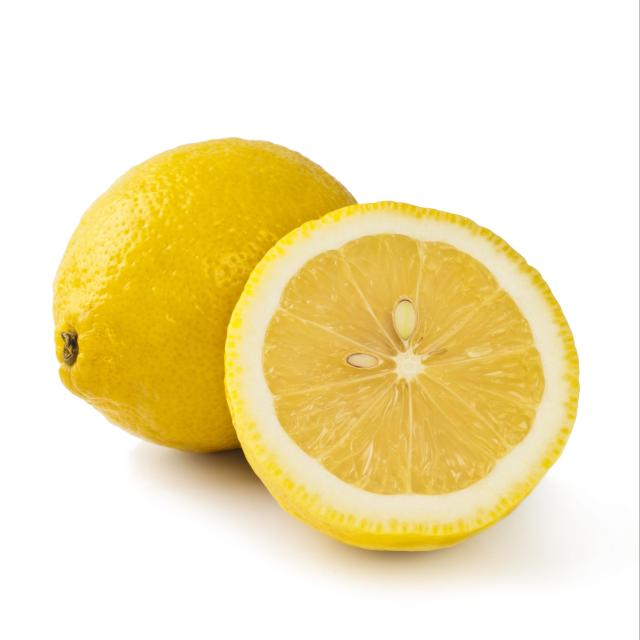lemon: (220, 194, 585, 556)
